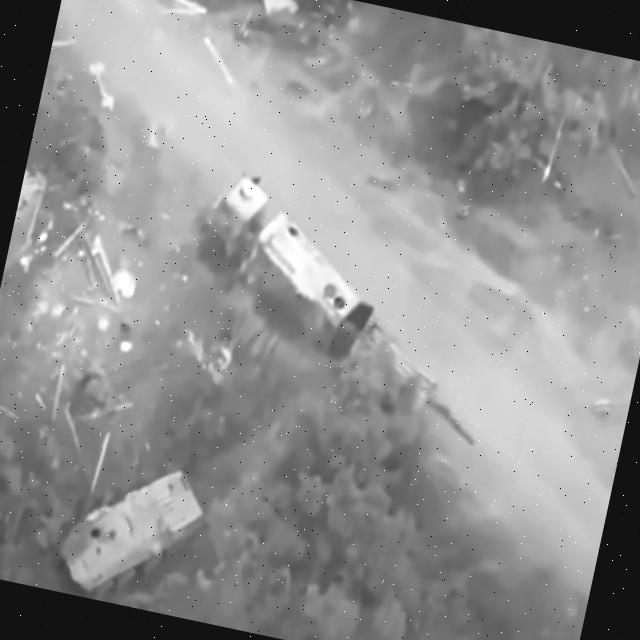APC: (49, 445, 217, 618)
Vehicle: (174, 168, 398, 369)
